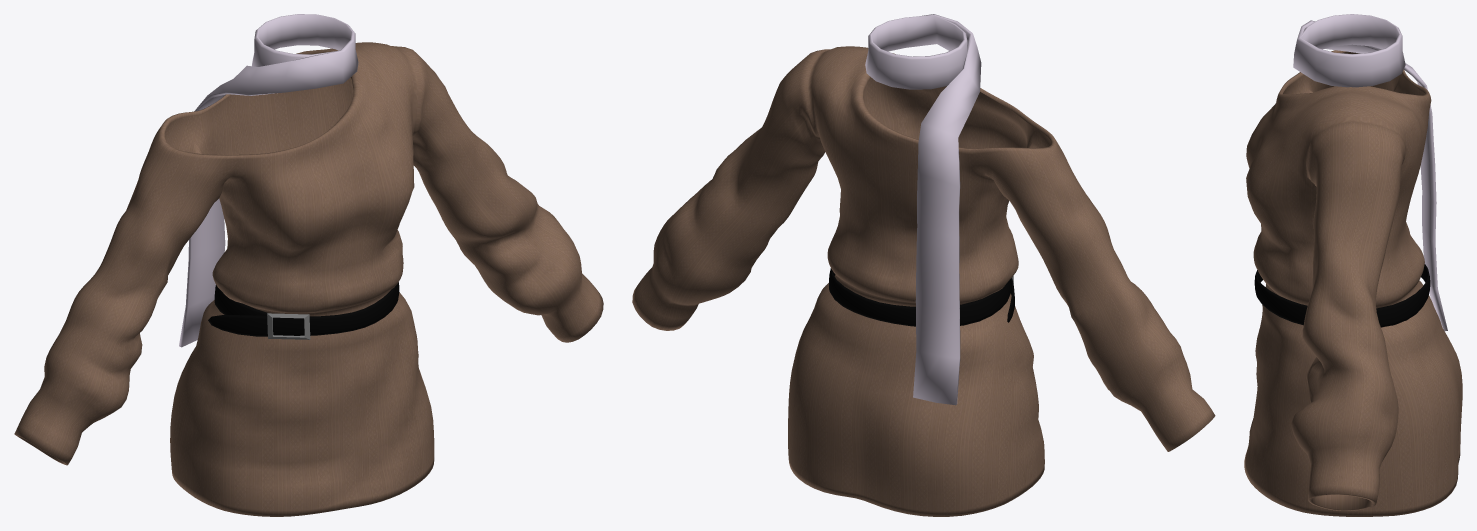
The model's file is off_shoulder_sweater_dress.glb.
3 renders of one model, left to right at view 1: azimuth 30°, elevation 25°; view 2: azimuth 150°, elevation 25°; view 3: azimuth 270°, elevation 25°, orthographic.
Parts seen in each view (by area): view 1: Circle_0, Circle.002_2, Circle.001_1; view 2: Circle_0, Circle.002_2, Circle.001_1; view 3: Circle_0, Circle.002_2, Circle.001_1.
Boxes of the visible parts, x1=… form: Circle_0: x1=14, y1=42, x2=603, y2=516; Circle.002_2: x1=179, y1=14, x2=358, y2=347; Circle.001_1: x1=208, y1=282, x2=399, y2=336; Circle_0: x1=632, y1=46, x2=1215, y2=516; Circle.002_2: x1=865, y1=14, x2=981, y2=405; Circle.001_1: x1=829, y1=268, x2=1014, y2=326; Circle_0: x1=1244, y1=50, x2=1462, y2=516; Circle.002_2: x1=1293, y1=14, x2=1447, y2=331; Circle.001_1: x1=1254, y1=264, x2=1430, y2=327.
Size of the model in its own units: 3.93 by 2.83 by 1.3.
Materials: 4 (1 with a texture image).
